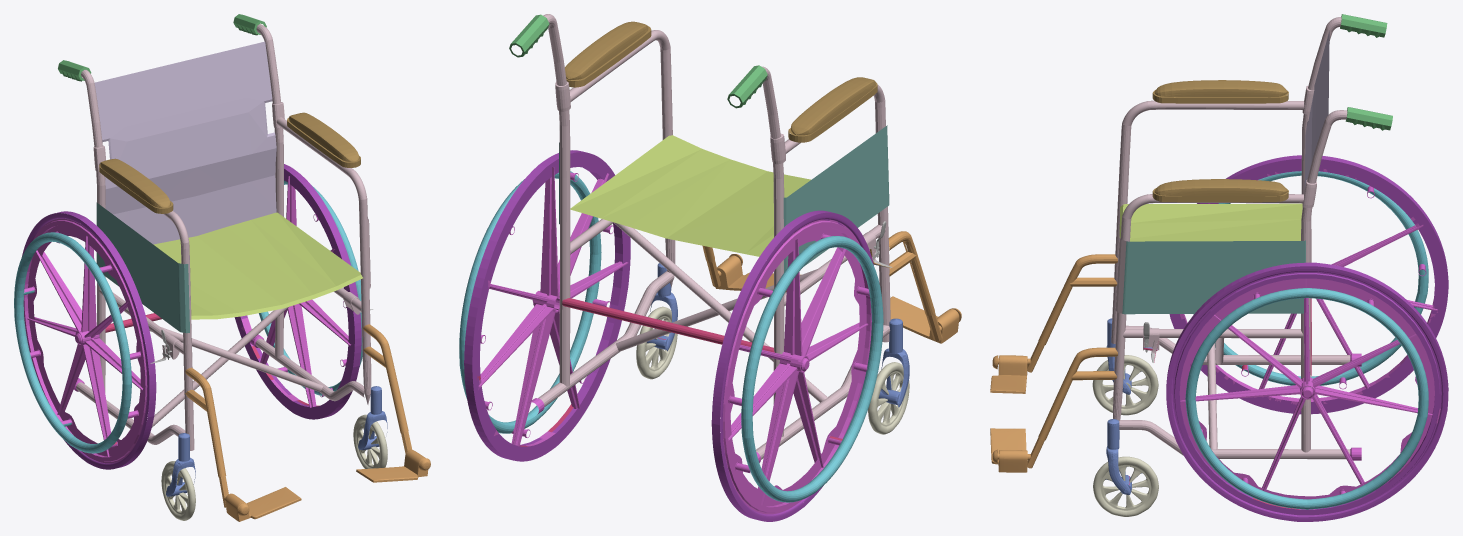
The picture shows the model from 3 angles, left to right: view 1: azimuth 30°, elevation 25°; view 2: azimuth 150°, elevation 25°; view 3: azimuth 270°, elevation 25°; orthographic projection. The views are drawn at different scales.
Parts seen in each view (by area): view 1: pred_mesh_gc.ply; view 2: pred_mesh_gc.ply; view 3: pred_mesh_gc.ply.
Boxes of the visible parts, box(x1,y1,x2,y2) form: pred_mesh_gc.ply: box(14, 14, 430, 521); pred_mesh_gc.ply: box(459, 14, 961, 521); pred_mesh_gc.ply: box(990, 14, 1448, 521).
Size of the model in its own units: 0.4245 by 0.6328 by 0.6476.
